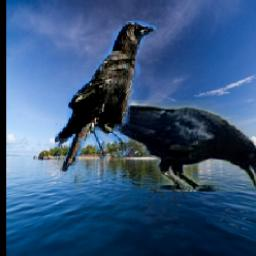Crow: (73, 101, 256, 193), (54, 19, 160, 173)
